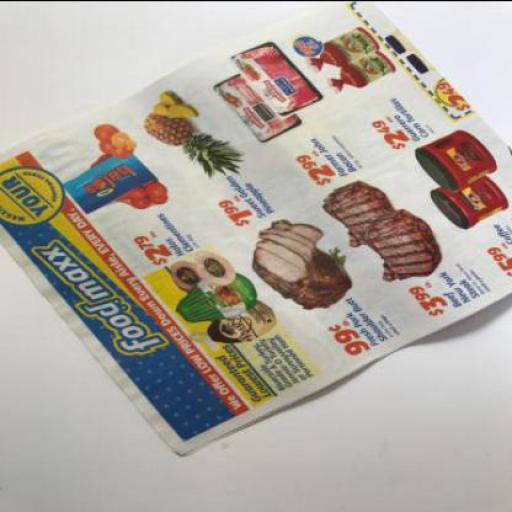paper: (1, 2, 511, 456)
